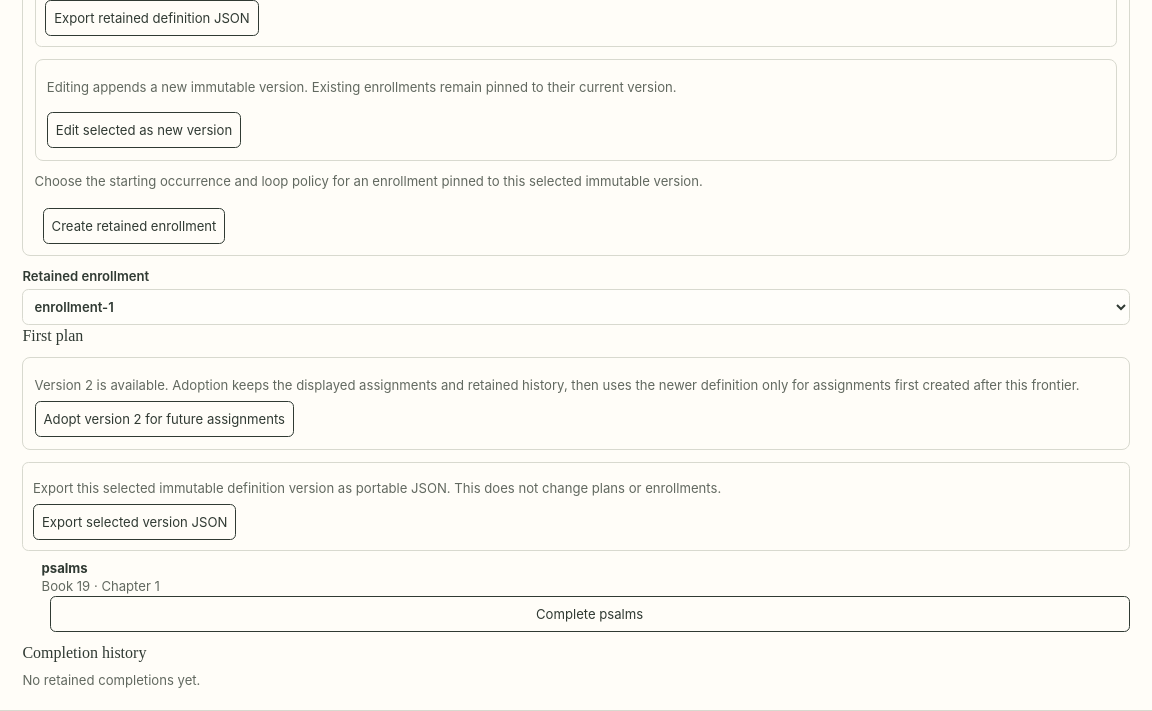
Test: retained plan panel › adopts a later stream version with the exact displayed assignment boundary
The width and height of the screenshot is (1152, 711).
(page scrolled)
Click the button "Adopt version 2 for future assignments". click: (164, 419)
box: [35,401,294,437]
(page scrolled)
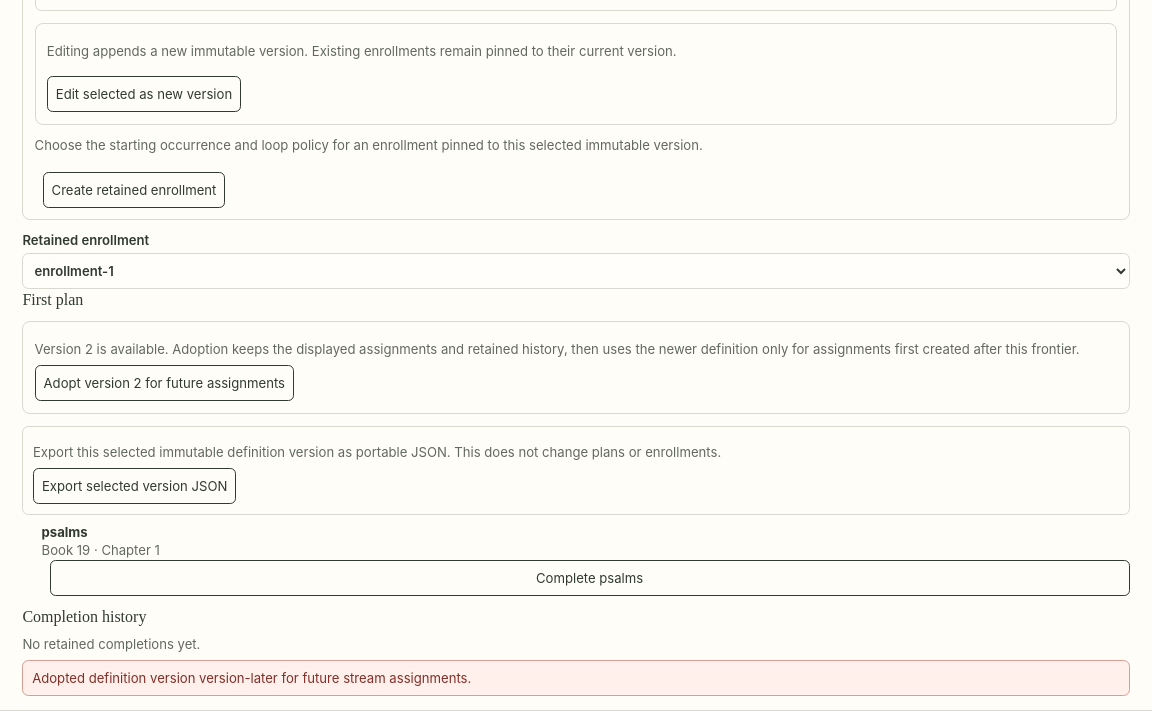
Expected: the text "Adopted definition version version-later for future stream assignments." is shown, [22,660,1130,696]
